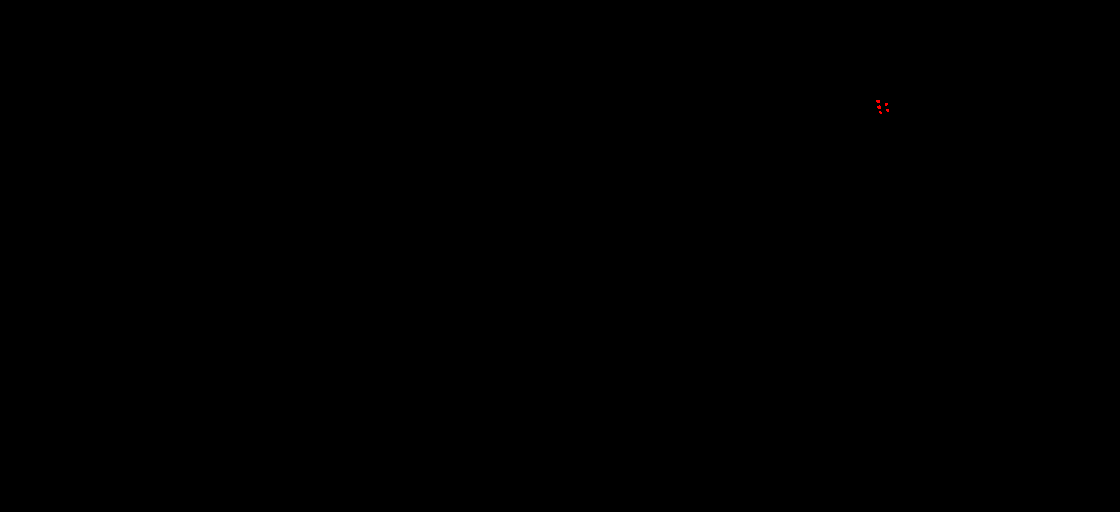Target: (877, 105, 881, 109), (876, 100, 880, 103), (885, 103, 888, 106), (886, 109, 889, 112), (879, 111, 882, 114)
